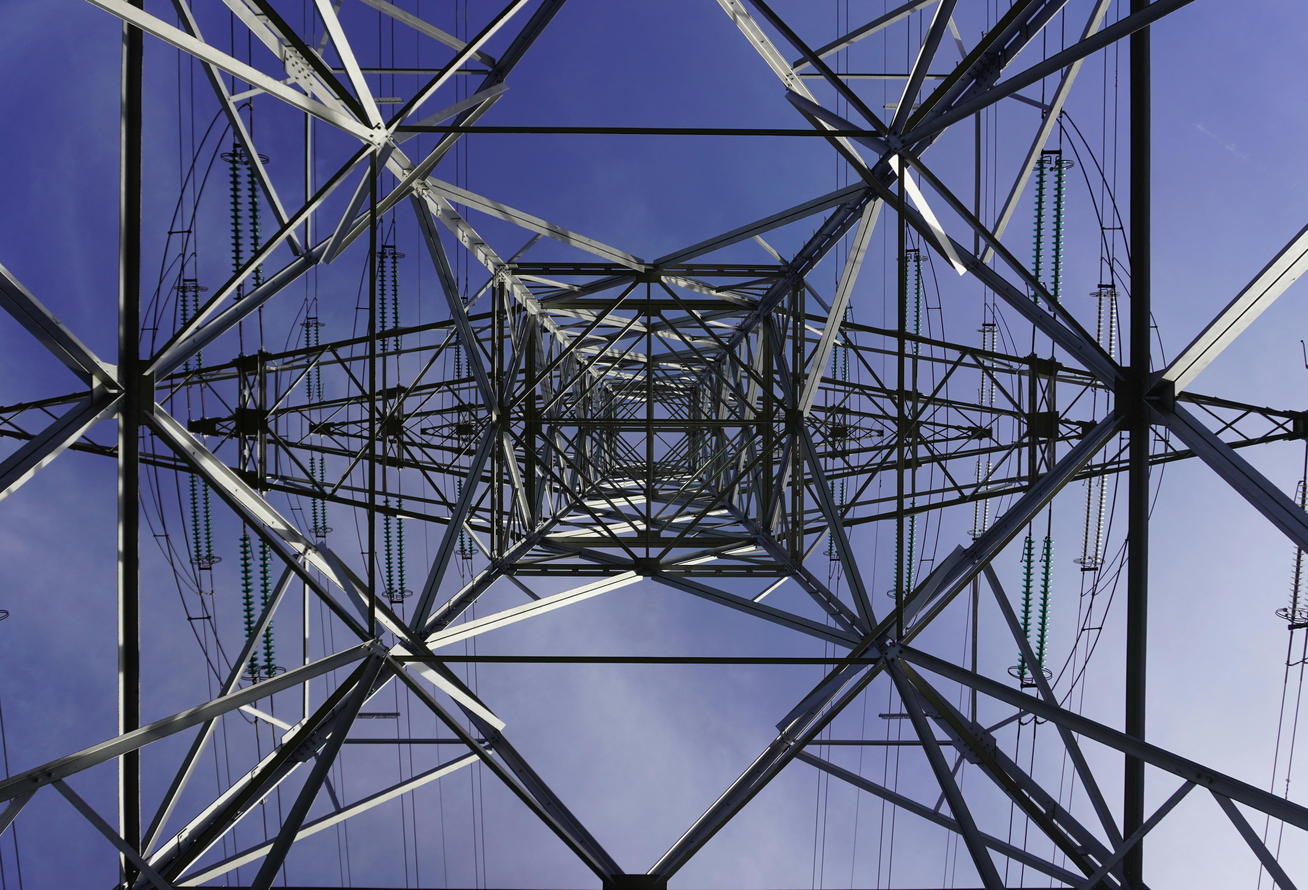insulator: (215, 141, 268, 307), (229, 530, 283, 681), (1020, 138, 1066, 311), (180, 426, 217, 579), (1019, 535, 1055, 673), (370, 240, 407, 352), (1085, 283, 1126, 374), (1081, 455, 1111, 568), (379, 495, 410, 597), (292, 315, 327, 405), (175, 278, 205, 377), (900, 246, 929, 348), (892, 500, 919, 602), (303, 446, 333, 534), (971, 458, 993, 536), (982, 322, 997, 401)
